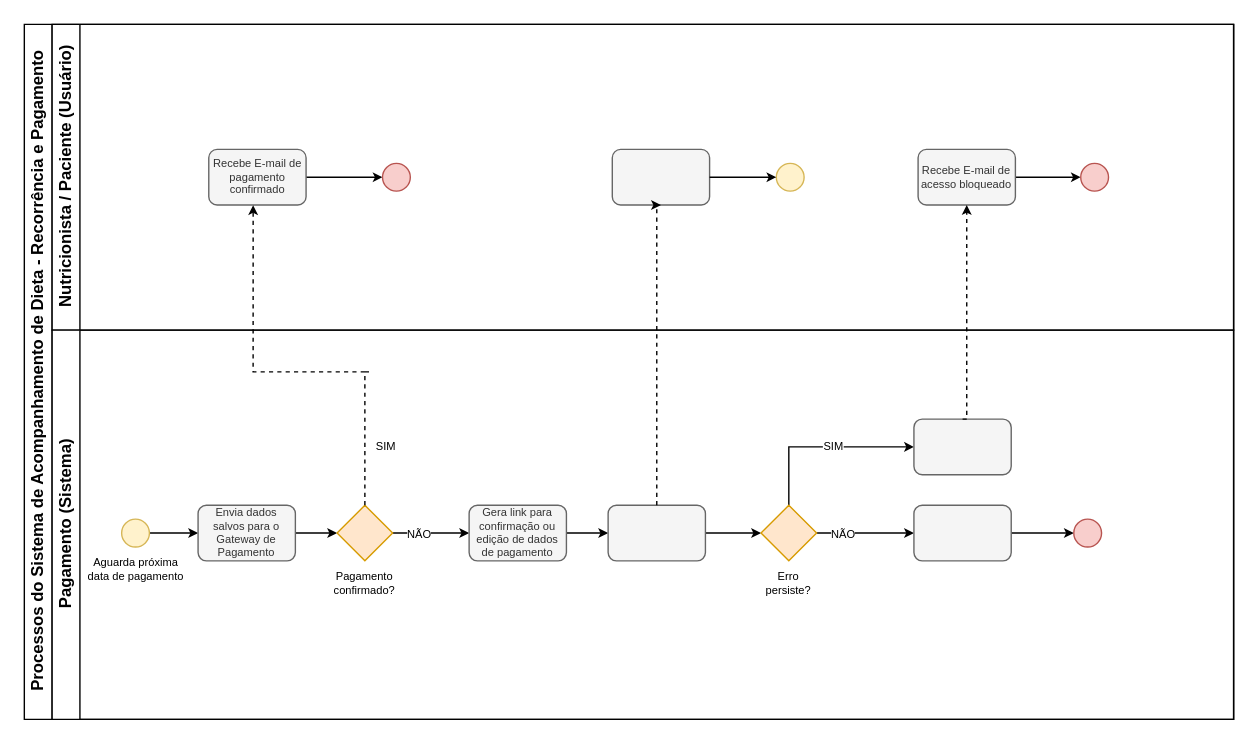
Image size: 1258x744. Some labels were removed from this diagram. The centre of each missing label's shape, as x and y in pixels:
Envia E-mail de pagamento confirmado: point (962, 532)
Envia E-mail de problema com pagamento: point (656, 532)
Processo de Seleção de Plano e Pagamento: point (789, 176)
Recebe E-mail de problema com pagamento: point (660, 176)
Remove acesso da plataforma: point (962, 446)
